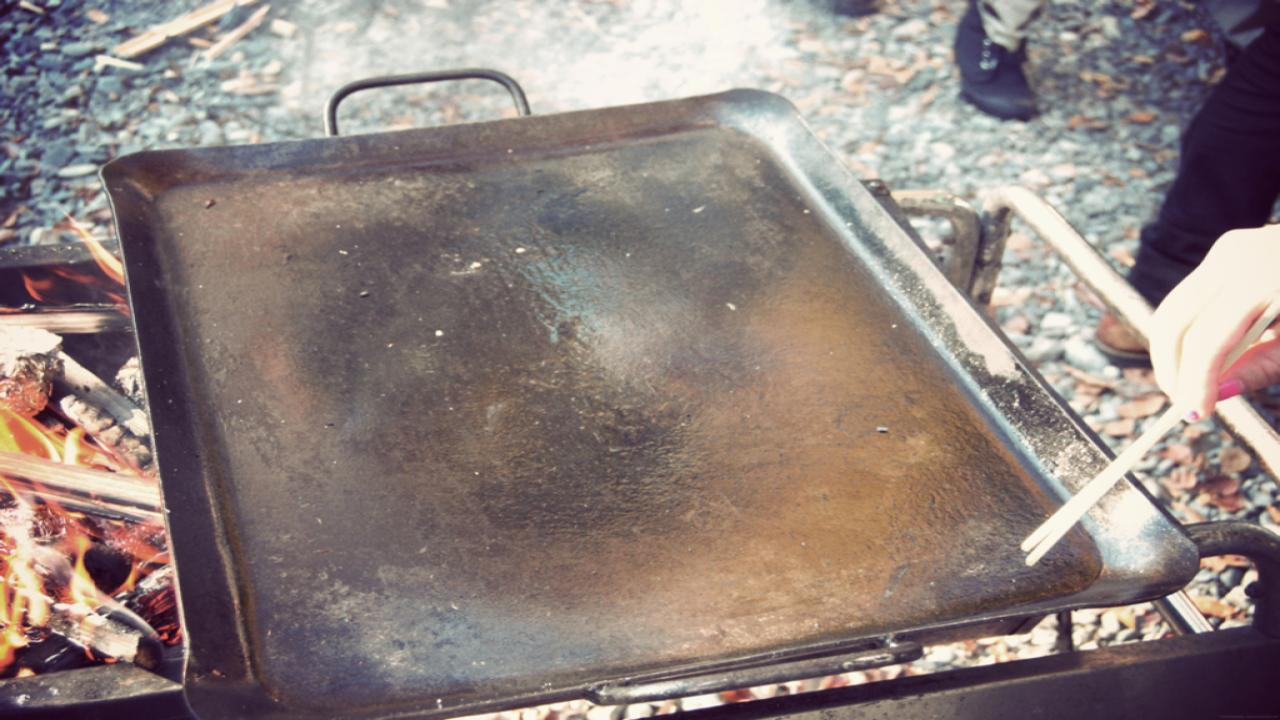chopstick: (1022, 410, 1182, 565)
